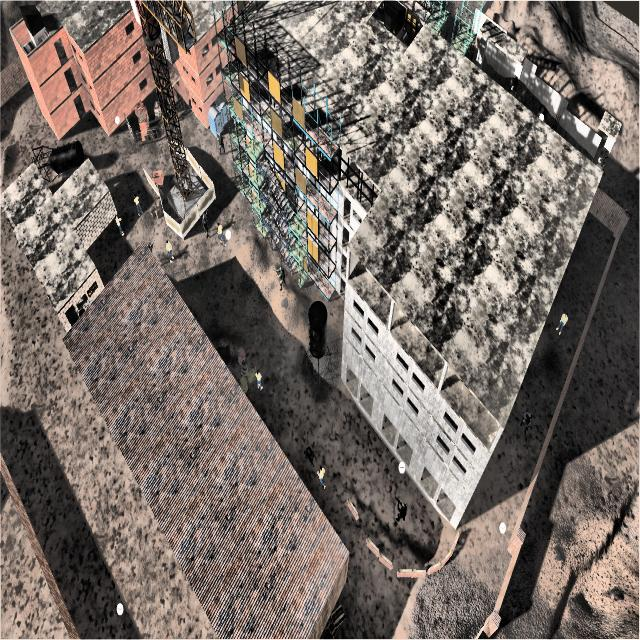bad: (391, 486, 412, 539), (271, 258, 291, 301), (518, 407, 536, 441), (301, 437, 317, 473), (198, 203, 212, 243), (215, 124, 228, 159)
good: (114, 200, 127, 241), (554, 306, 568, 344), (132, 186, 144, 223), (164, 233, 177, 267), (315, 460, 327, 494), (215, 221, 228, 251), (253, 367, 265, 393)
